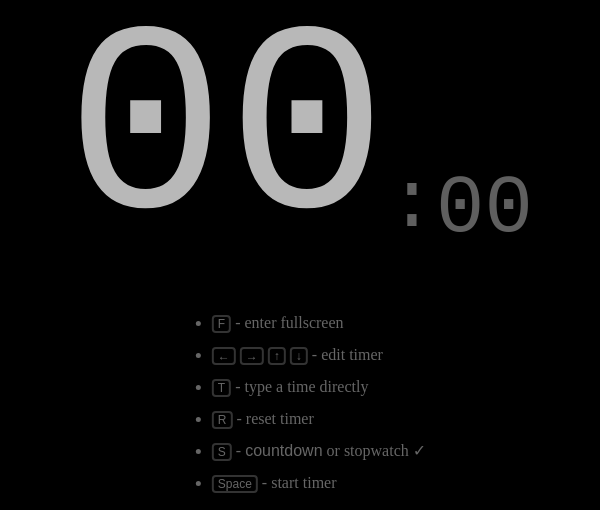
Scenario: shows a validation error for invalid typed times
The image size is (600, 510).
Click the button "T".
click(221, 388)  # box 212,379 -> 231,397
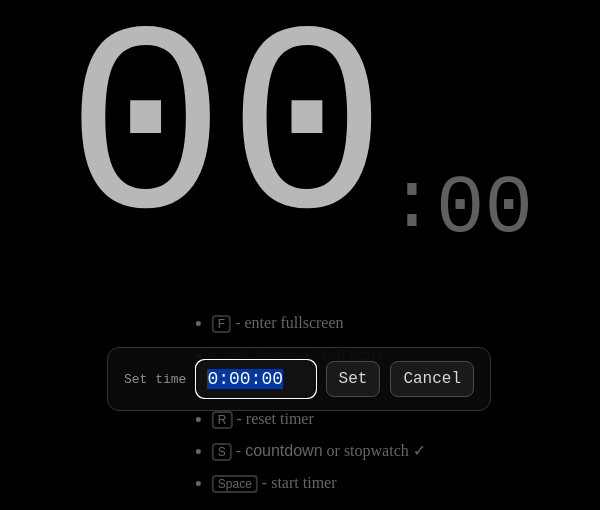
Replace the text in the field named "Time input" with "1:75:00" at (256, 379), box 196,360 -> 316,398
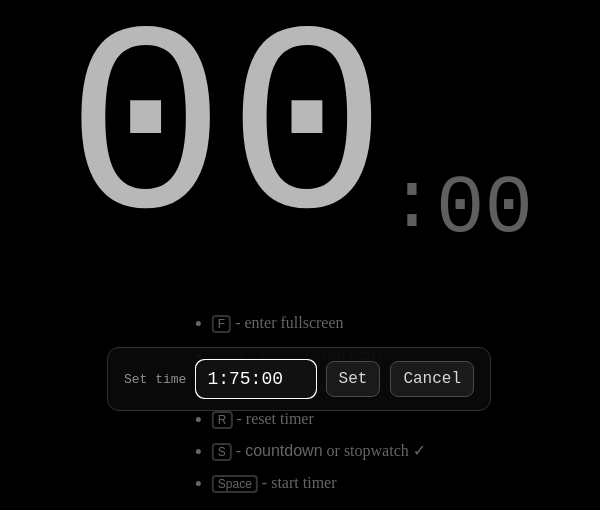
Click the submit button.
click(353, 379)  # box 326,361 -> 380,397
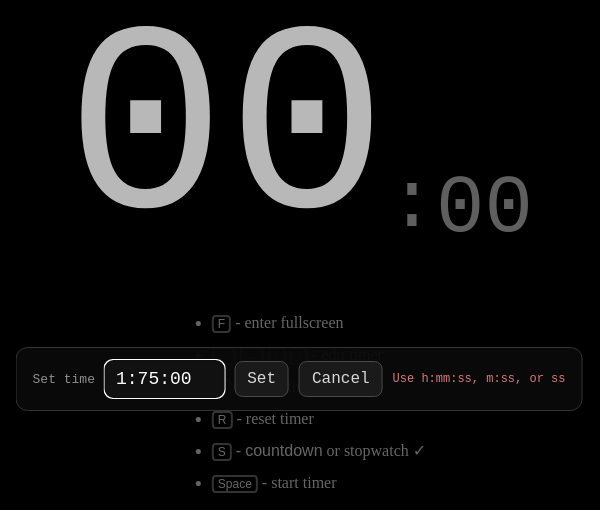
Check: the element with class "clock" reads "00 : 00", box 65,17 -> 533,253
Check: the text "Use h:mm:ss, m:ss, or ss" is shown, box 393,372 -> 565,386
Replace the text in the field named "Time input" with "45" at (165, 379), box 105,360 -> 224,398
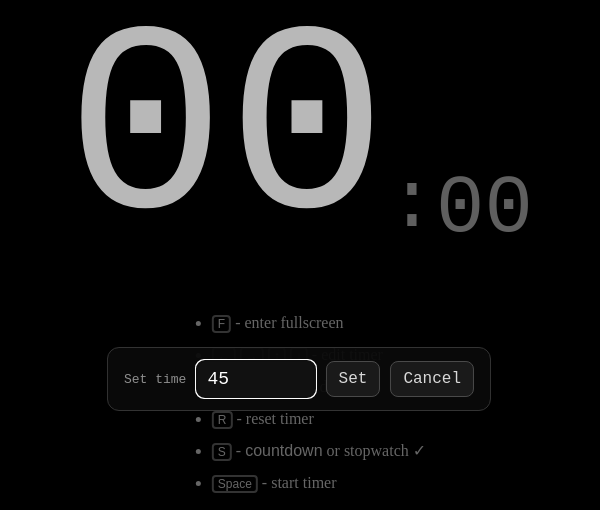
Click the submit button.
click(353, 379)  # box 326,361 -> 380,397
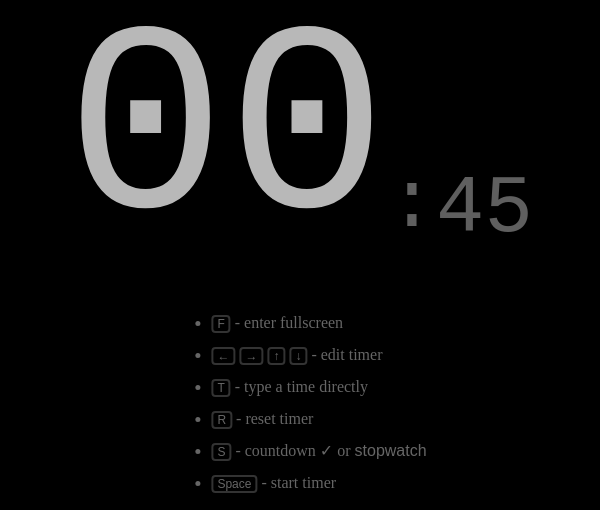
Check: the text "Use h:mm:ss, m:ss, or ss" is not shown
Check: the element with class "clock" reads "00 : 45", box 65,17 -> 533,253
